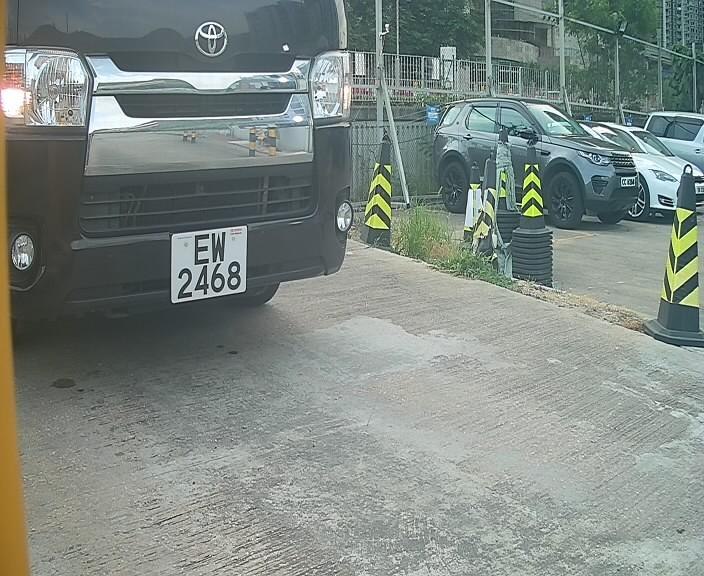privatecar: (3, 2, 364, 353)
